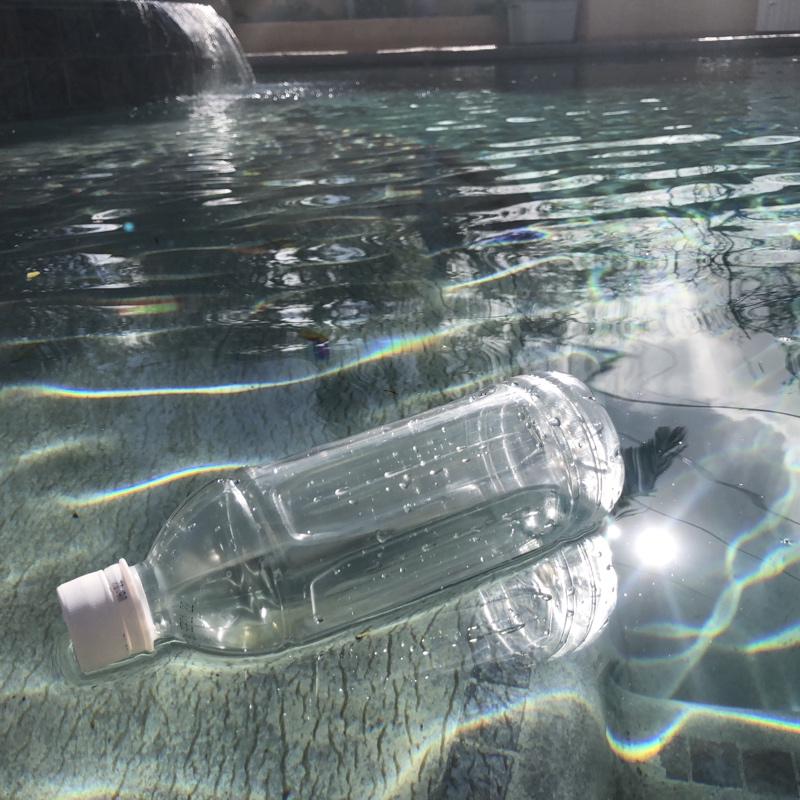Plastic Bottle: (50, 365, 629, 686)
